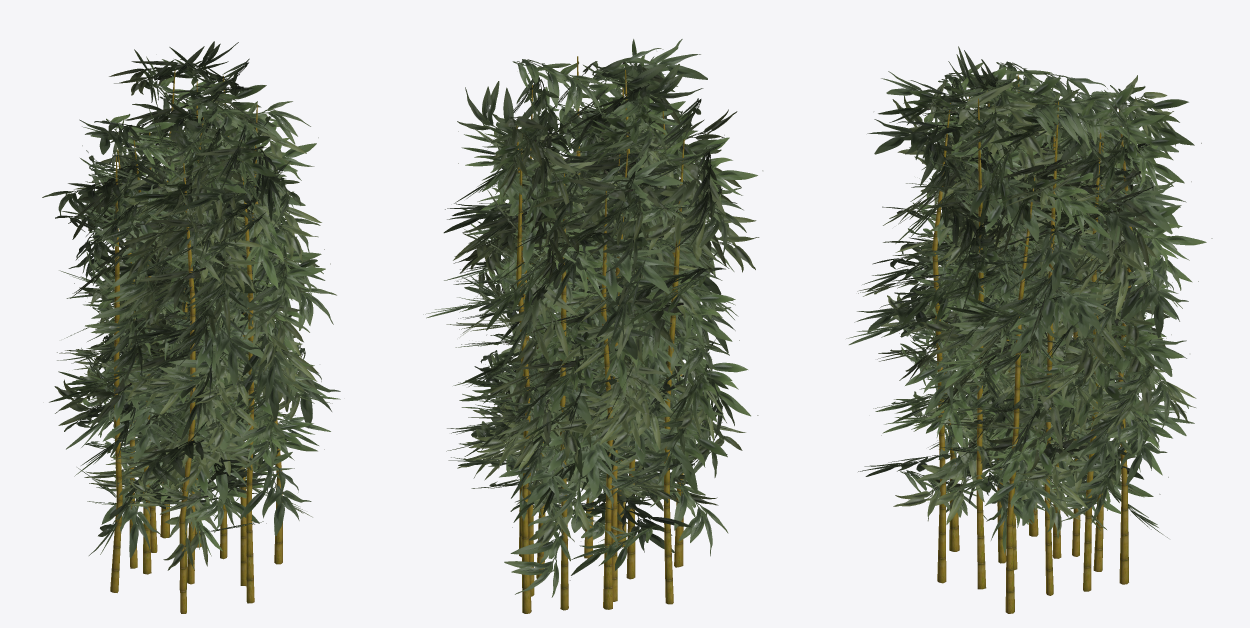
The model's file is Phyllostachys_Aurea_Spring_Adult.glb.
The picture shows the model from 3 angles, left to right: view 1: azimuth 30°, elevation 25°; view 2: azimuth 150°, elevation 25°; view 3: azimuth 270°, elevation 25°; orthographic projection. The views are drawn at different scales.
Parts seen in each view (by area): view 1: Phyllostachys_Aurea_Spring_Adult__LOD3; view 2: Phyllostachys_Aurea_Spring_Adult__LOD3; view 3: Phyllostachys_Aurea_Spring_Adult__LOD3.
Boxes of the visible parts, box(x1,y1,x2,y2) form: Phyllostachys_Aurea_Spring_Adult__LOD3: box(42, 41, 340, 613); Phyllostachys_Aurea_Spring_Adult__LOD3: box(423, 39, 762, 613); Phyllostachys_Aurea_Spring_Adult__LOD3: box(846, 46, 1212, 613).
Size of the model in its own units: 2.98 by 4.57 by 3.17.
Materials: 2 (2 with a texture image).
